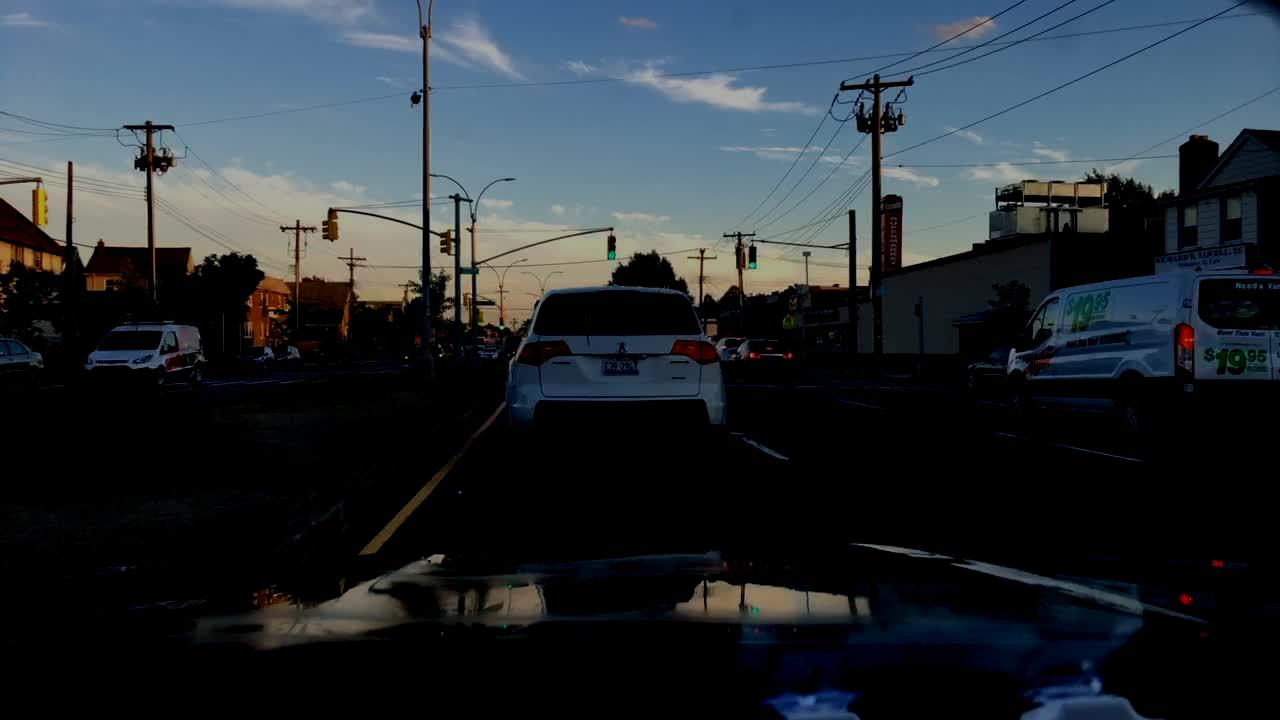acura: (609, 334, 640, 362)
